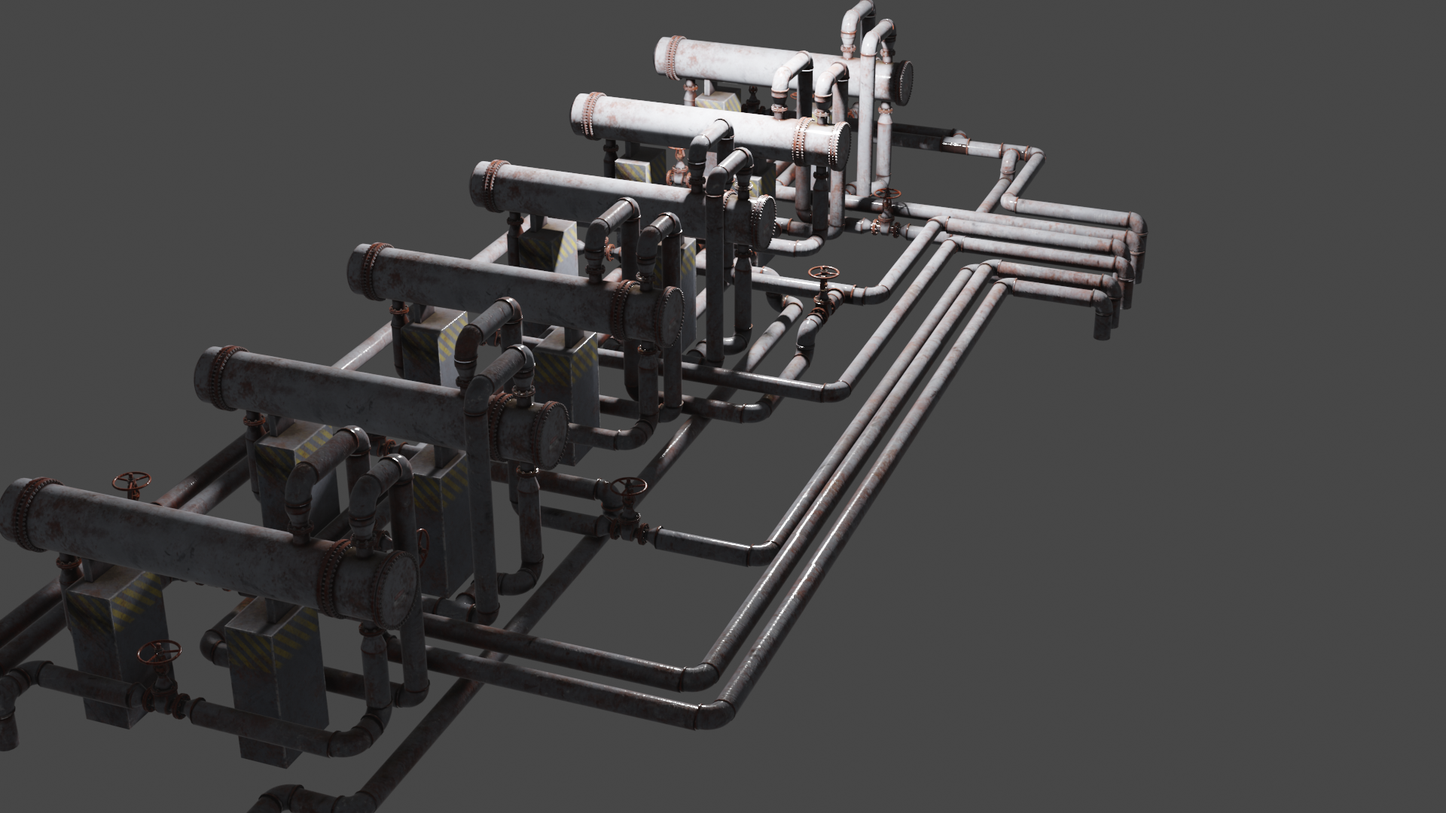HE_1: (0, 470, 419, 633)
HE_2: (192, 337, 568, 471)
HE_3: (344, 240, 687, 347)
HE_4: (464, 159, 778, 248)
HE_5: (563, 91, 847, 167)
HE_6: (644, 36, 917, 109)
